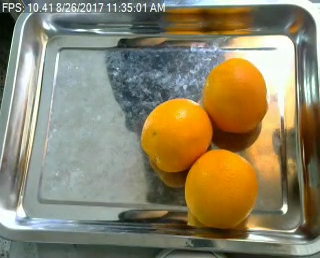Orange: (184, 148, 257, 228), (140, 97, 211, 172), (203, 58, 269, 133)
